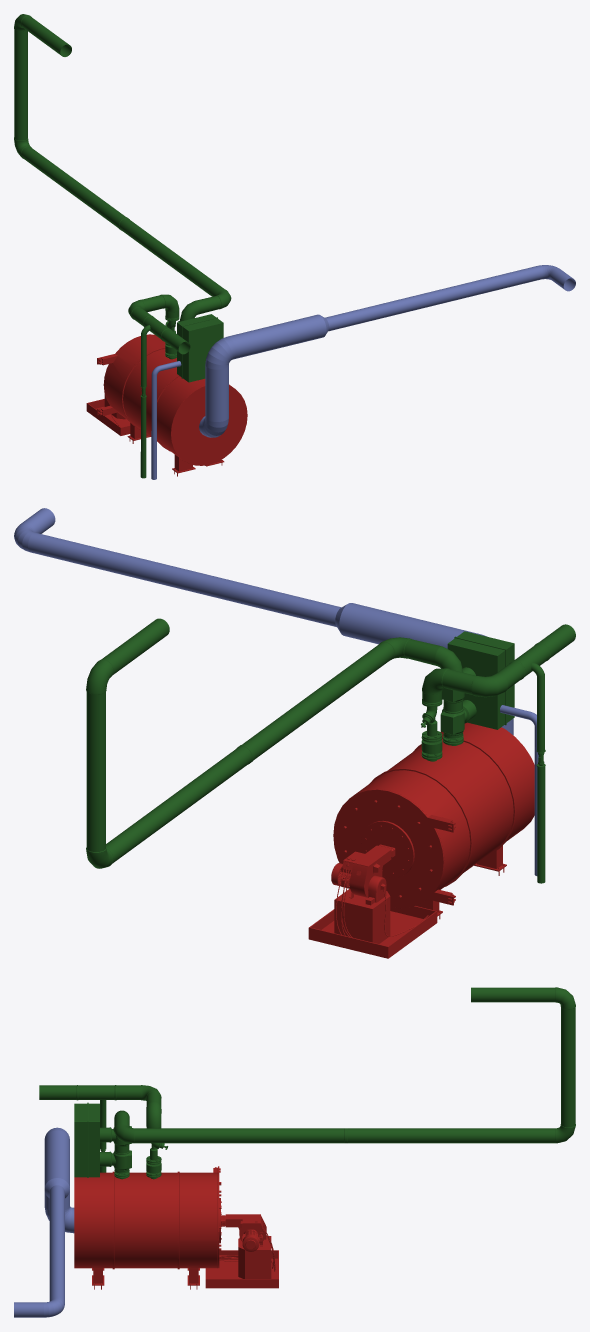
File: LightOilBoiler.fbx
3 renders of one model, top to bottom at view 1: azimuth 30°, elevation 25°; view 2: azimuth 150°, elevation 25°; view 3: azimuth 270°, elevation 25°, orthographic. The views are drawn at different scales.
Visible parts, largest first — view 1: LightOilBoiler-Frame, LightOilBoiler_Outflow-3, LightOilBoiler_Main-7, LightOilBoiler_Main-8, LightOilBoiler_Main-3, pipe.002, pipe.001, LightOilBoiler_Main-6, LightOilBoiler-Pump; view 2: LightOilBoiler-Frame, LightOilBoiler_Main-7, LightOilBoiler_Outflow-3, LightOilBoiler-Pump, LightOilBoiler_Main-3, LightOilBoiler_Main-8, pipe.002, LightOilBoiler_Main-6, pipe.001, LightOilBoiler_Main-4; view 3: LightOilBoiler-Frame, LightOilBoiler_Main-7, LightOilBoiler_Outflow-3, LightOilBoiler-Pump, LightOilBoiler_Main-3, LightOilBoiler_Main-8, LightOilBoiler_Main-6, LightOilBoiler_Main-4.
Boxes of the visible parts, left/top/right/bottom form: LightOilBoiler-Frame: left=97, top=334, right=247, bottom=476; LightOilBoiler_Outflow-3: left=199, top=265, right=575, bottom=437; LightOilBoiler_Main-7: left=14, top=14, right=224, bottom=296; LightOilBoiler_Main-8: left=177, top=314, right=223, bottom=382; LightOilBoiler_Main-3: left=128, top=294, right=190, bottom=354; pipe.002: left=140, top=325, right=150, bottom=478; pipe.001: left=151, top=361, right=181, bottom=479; LightOilBoiler_Main-6: left=180, top=289, right=231, bottom=321; LightOilBoiler-Pump: left=86, top=394, right=130, bottom=435; LightOilBoiler-Frame: left=333, top=722, right=534, bottom=919; LightOilBoiler_Main-7: left=86, top=618, right=394, bottom=868; LightOilBoiler_Outflow-3: left=14, top=508, right=513, bottom=735; LightOilBoiler-Pump: left=308, top=845, right=437, bottom=958; LightOilBoiler_Main-3: left=422, top=624, right=575, bottom=704; LightOilBoiler_Main-8: left=447, top=631, right=514, bottom=729; pipe.002: left=531, top=662, right=545, bottom=883; LightOilBoiler_Main-6: left=379, top=637, right=463, bottom=672; pipe.001: left=500, top=705, right=538, bottom=875; LightOilBoiler_Main-4: left=440, top=704, right=464, bottom=745; LightOilBoiler-Frame: left=74, top=1166, right=225, bottom=1289; LightOilBoiler_Main-7: left=134, top=987, right=575, bottom=1143; LightOilBoiler_Outflow-3: left=14, top=1127, right=74, bottom=1317; LightOilBoiler-Pump: left=205, top=1214, right=278, bottom=1288; LightOilBoiler_Main-3: left=39, top=1085, right=161, bottom=1128; LightOilBoiler_Main-8: left=74, top=1102, right=99, bottom=1177; LightOilBoiler_Main-6: left=114, top=1110, right=134, bottom=1143; LightOilBoiler_Main-4: left=113, top=1148, right=131, bottom=1179.
Size of the model in its own units: 769 by 539 by 882.
